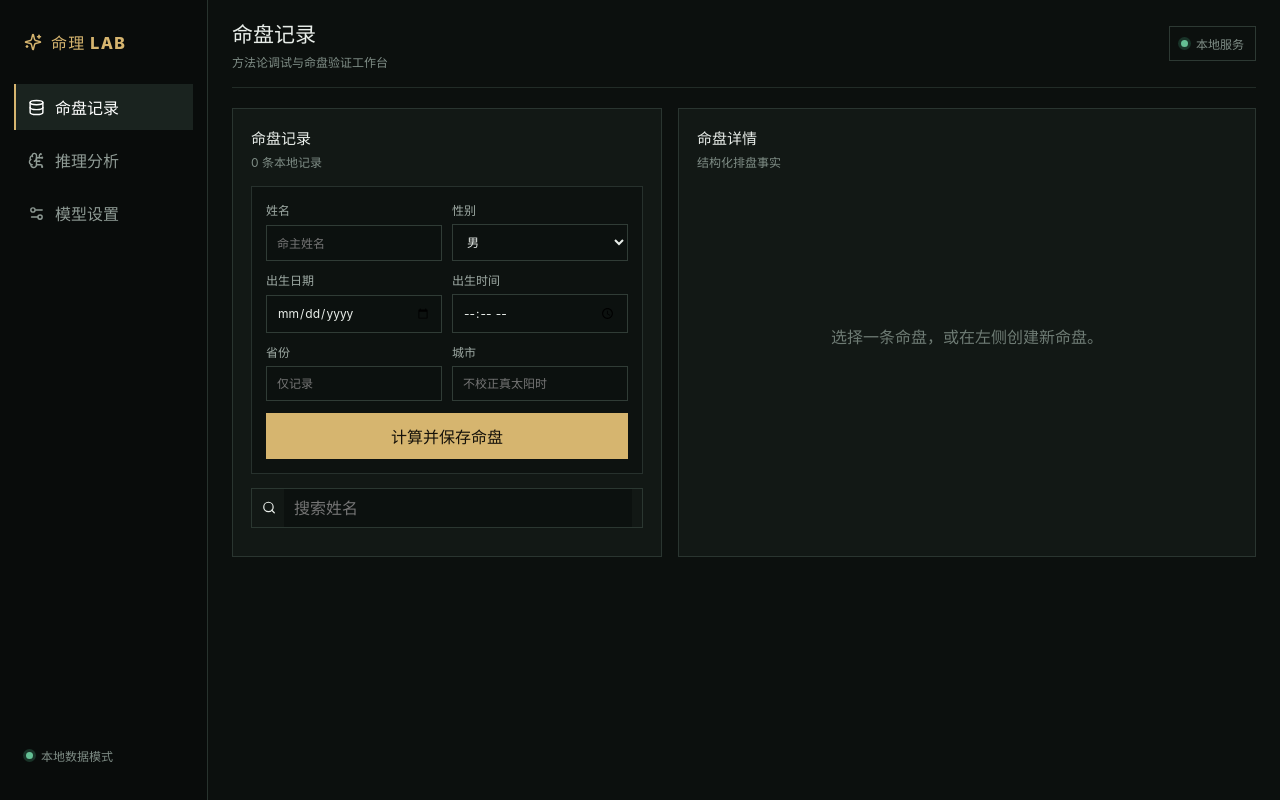
Test case: opens model settings without exposing an existing key
Click the button "模型设置": (104, 213) [14, 190, 193, 236]
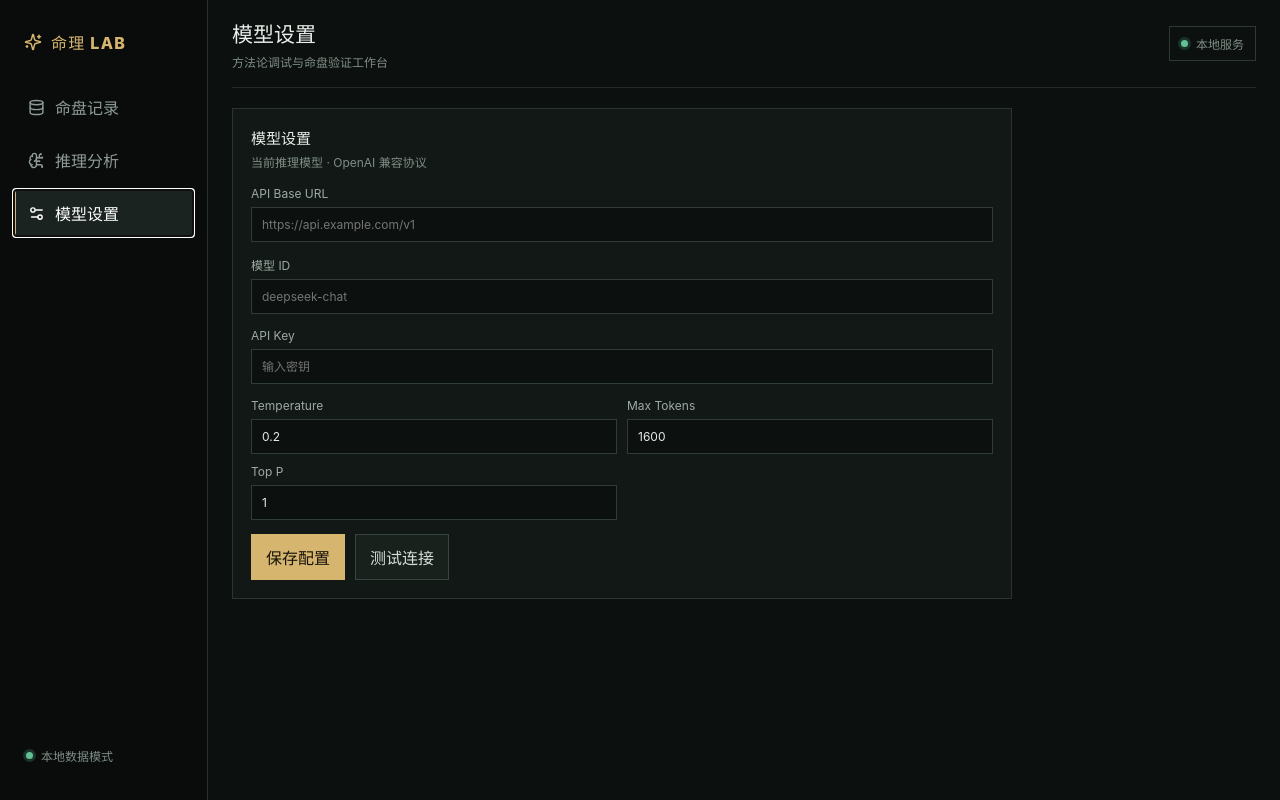
Result: the heading "模型设置" in the row of "本地服务" is shown at [232, 22, 316, 46]
Result: the password field labelled "API Key" is empty at [251, 349, 993, 384]
